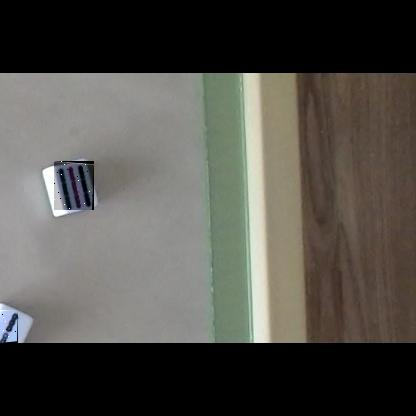2s: (0, 310, 18, 343)
9s: (54, 161, 94, 210)
